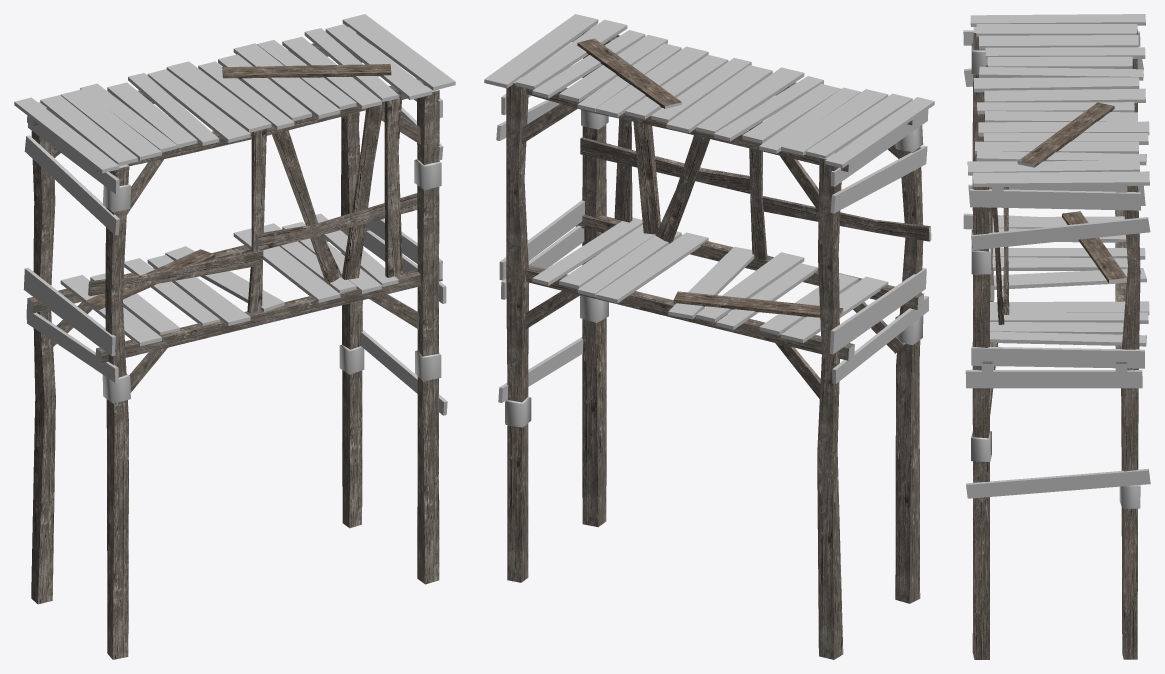
File: Scaff1.fbx
3 renders of one model, left to right at view 1: azimuth 30°, elevation 25°; view 2: azimuth 150°, elevation 25°; view 3: azimuth 270°, elevation 25°, orthographic. The views are drawn at different scales.
Parts seen in each view (by area): view 1: polySurface169; view 2: polySurface169; view 3: polySurface169.
Boxes of the visible parts, <box> form: polySurface169: <box>14,14,455,659</box>; polySurface169: <box>484,14,934,659</box>; polySurface169: <box>963,14,1150,659</box>.
Bounding box in the file's own units: 4.54 × 6.01 × 2.1.
